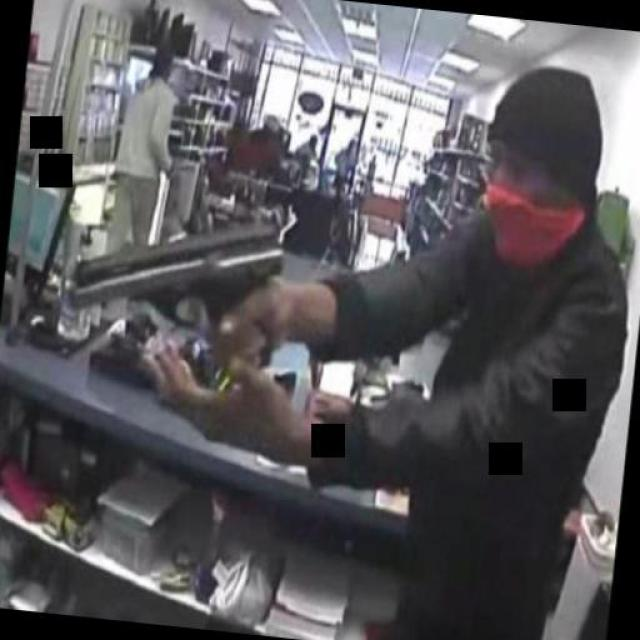gun: (61, 196, 286, 382)
